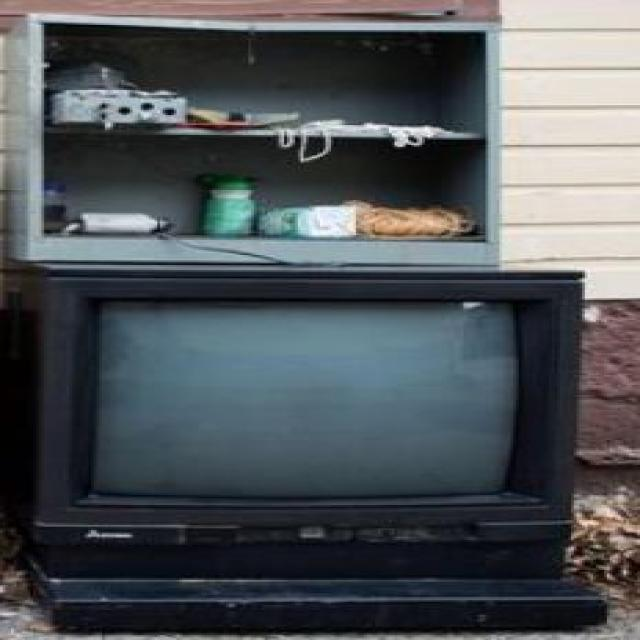electronic: (8, 243, 638, 624), (8, 21, 528, 286)
